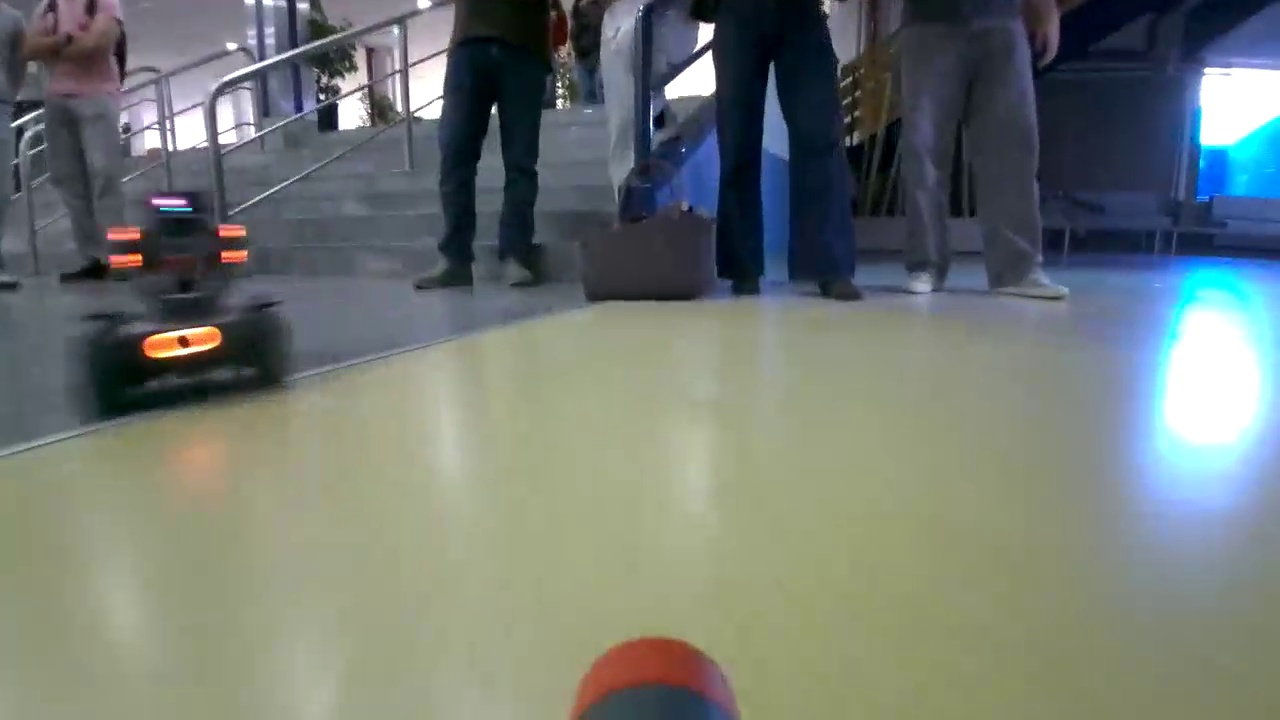robot: (74, 191, 290, 409)
